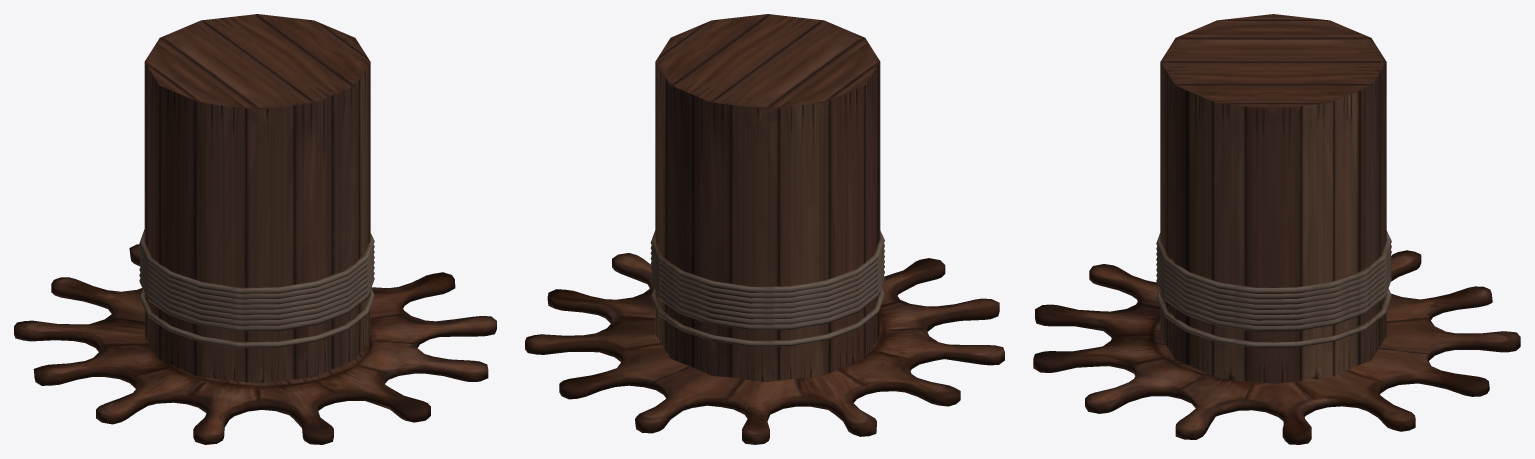
Rendered from RopeSpool.fbx.
3 views of the same model, side by side, from view 1: azimuth 30°, elevation 25°; view 2: azimuth 150°, elevation 25°; view 3: azimuth 270°, elevation 25° (orthographic).
Visible parts, largest first — view 1: Spool2, WheelThing2, SpoolRopeGRP, SpoolRopePiece2; view 2: Spool2, WheelThing2, SpoolRopeGRP, SpoolRopePiece2; view 3: Spool2, WheelThing2, SpoolRopeGRP, SpoolRopePiece2.
Boxes of the visible parts, x1,y1,x2,y2 form: Spool2: [144, 14, 370, 383]; WheelThing2: [14, 244, 496, 444]; SpoolRopeGRP: [139, 229, 374, 331]; SpoolRopePiece2: [139, 288, 374, 347]; Spool2: [655, 14, 880, 382]; WheelThing2: [525, 253, 1004, 444]; SpoolRopeGRP: [650, 230, 884, 330]; SpoolRopePiece2: [650, 287, 884, 346]; Spool2: [1160, 14, 1386, 383]; WheelThing2: [1033, 250, 1520, 444]; SpoolRopeGRP: [1156, 231, 1391, 331]; SpoolRopePiece2: [1156, 288, 1391, 347].
Bounding box in the file's own units: 272 × 178 × 277.
